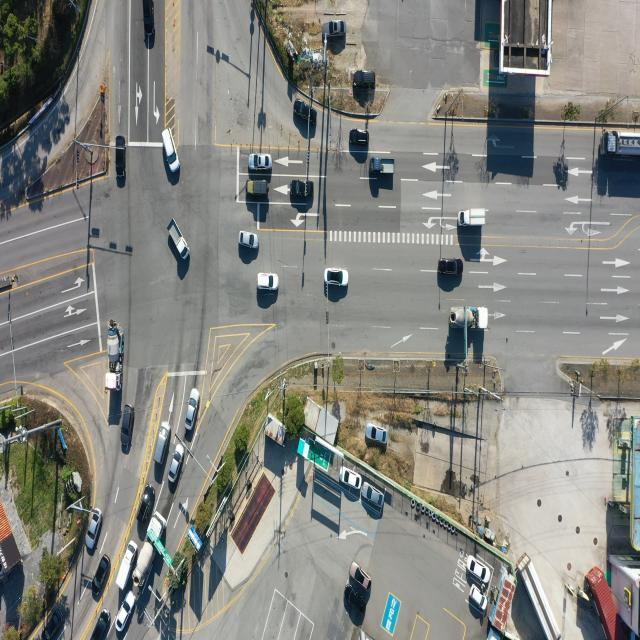car: (160, 126, 179, 172), (117, 590, 137, 632), (344, 584, 366, 619), (44, 605, 65, 640), (155, 421, 172, 464), (87, 508, 103, 551), (168, 442, 185, 482), (138, 484, 155, 523), (351, 560, 372, 590), (184, 388, 198, 432), (469, 556, 491, 584), (94, 556, 111, 592), (292, 98, 316, 123), (89, 611, 108, 640), (362, 484, 384, 509), (122, 405, 133, 449), (341, 466, 362, 489), (324, 268, 348, 288), (469, 584, 487, 610), (142, 0, 153, 40), (248, 182, 272, 200), (290, 182, 314, 200), (439, 260, 464, 277), (116, 138, 126, 180), (365, 424, 387, 443), (353, 69, 376, 87), (256, 274, 278, 291), (349, 129, 369, 147), (239, 232, 258, 250), (328, 19, 348, 36), (251, 153, 272, 169)
medium_truck: (521, 554, 563, 638), (132, 515, 166, 585), (448, 304, 487, 329), (605, 133, 640, 158), (108, 326, 122, 382)
small_truck: (116, 539, 138, 589), (171, 218, 192, 258), (458, 208, 488, 228), (370, 159, 396, 176)
